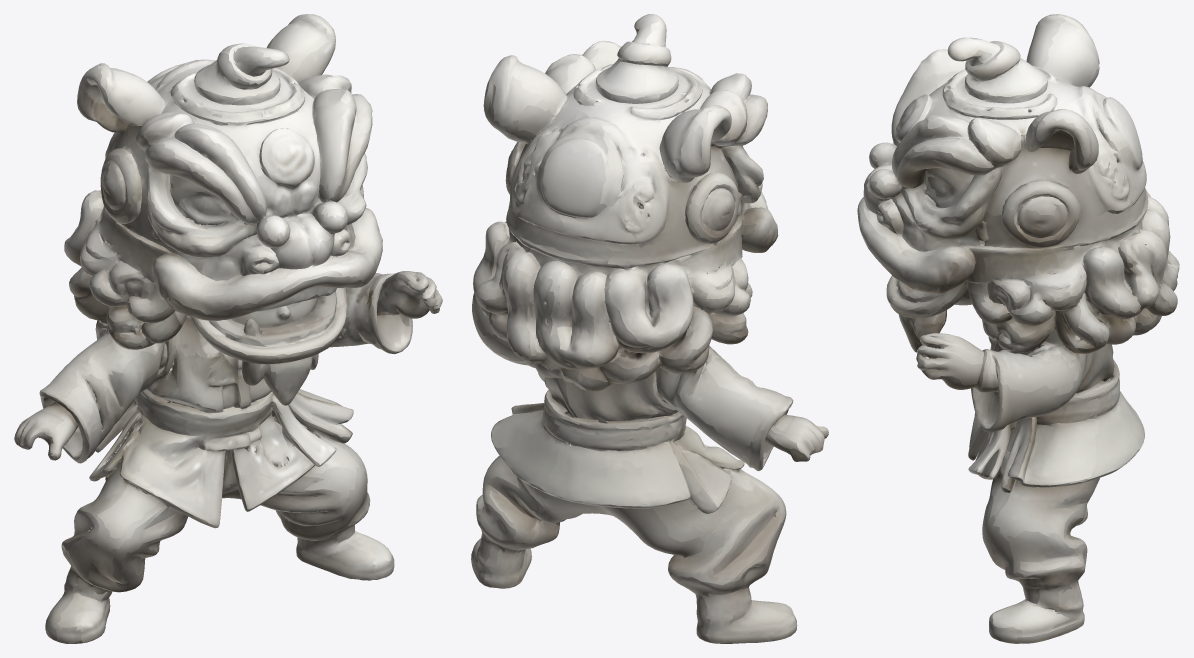
The picture shows the model from 3 angles, left to right: view 1: azimuth 30°, elevation 25°; view 2: azimuth 150°, elevation 25°; view 3: azimuth 270°, elevation 25°; orthographic projection. The views are drawn at different scales.
Parts seen in each view (by area): view 1: geometry_0; view 2: geometry_0; view 3: geometry_0.
Part boxes in pixels (x1,y1,x2,y2): geometry_0: [14, 14, 442, 643]; geometry_0: [471, 14, 828, 643]; geometry_0: [857, 14, 1179, 643].
Size of the model in its own units: 0.1242 by 0.18 by 0.0982.
Materials: 1 (1 with a texture image).
